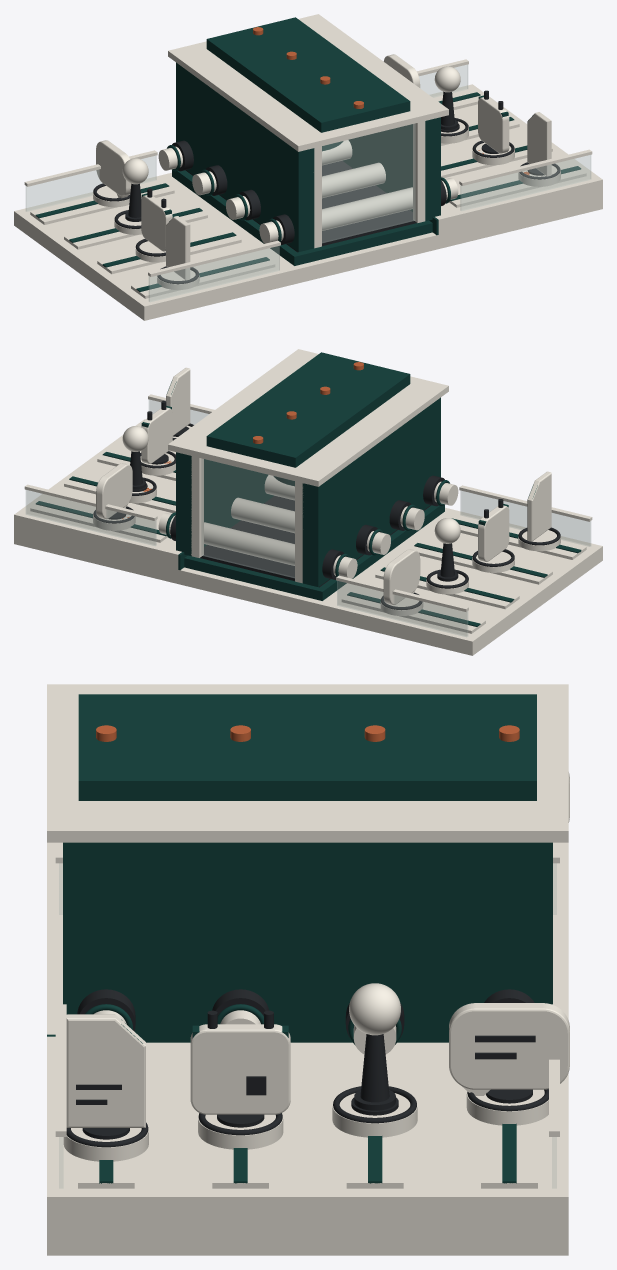
Rendered from automation-engine.glb.
The picture shows the model from 3 angles, top to bottom: view 1: azimuth 30°, elevation 25°; view 2: azimuth 150°, elevation 25°; view 3: azimuth 270°, elevation 25°; orthographic projection. The views are drawn at different scales.
Visible parts, largest first — view 1: base_deck, machine, machine_crown, machine_cap, viewing_panel_2, output_plateau, guide_panel_in_2, guide_panel_out_2, machine_base, process_tube_4, machine_floor, guide_panel_in_1 (+30 smaller); view 2: base_deck, machine, machine_crown, machine_cap, viewing_panel_1, output_plateau, guide_panel_out_1, guide_panel_in_1, machine_base, process_tube_1, machine_floor, guide_panel_in_2 (+31 smaller); view 3: machine, output_plateau, machine_crown, machine_cap, base_deck, message_plate_out, appt_tile_out, doc_sheet_out, rail_out_2, rail_out_1, lead_head_out, rail_out_3 (+12 smaller).
Part boxes in pixels (left/top/right/bottom): base_deck: left=14, top=172, right=602, bottom=320; machine: left=176, top=62, right=440, bottom=252; machine_crown: left=206, top=17, right=410, bottom=132; machine_cap: left=168, top=14, right=448, bottom=151; viewing_panel_2: left=322, top=124, right=415, bottom=242; output_plateau: left=430, top=84, right=602, bottom=234; guide_panel_in_2: left=149, top=246, right=279, bottom=301; guide_panel_out_2: left=460, top=155, right=590, bottom=210; machine_base: left=172, top=170, right=432, bottom=265; process_tube_4: left=259, top=178, right=458, bottom=243; machine_floor: left=185, top=161, right=416, bottom=252; guide_panel_in_1: left=26, top=156, right=156, bottom=211; base_deck: left=14, top=507, right=602, bottom=655; machine: left=176, top=397, right=440, bottom=587; machine_crown: left=206, top=352, right=410, bottom=467; machine_cap: left=168, top=349, right=448, bottom=486; viewing_panel_1: left=201, top=459, right=294, bottom=577; output_plateau: left=14, top=419, right=181, bottom=569; guide_panel_out_1: left=26, top=490, right=156, bottom=545; guide_panel_in_1: left=337, top=581, right=467, bottom=636; machine_base: left=184, top=505, right=444, bottom=600; process_tube_1: left=158, top=513, right=357, bottom=578; machine_floor: left=200, top=496, right=431, bottom=587; guide_panel_in_2: left=460, top=491, right=590, bottom=546; machine: left=63, top=842, right=552, bottom=1042; output_plateau: left=47, top=1036, right=568, bottom=1226; machine_crown: left=78, top=694, right=536, bottom=800; machine_cap: left=47, top=684, right=568, bottom=842; base_deck: left=47, top=842, right=568, bottom=1255; message_plate_out: left=449, top=1003, right=569, bottom=1089; appt_tile_out: left=190, top=1024, right=290, bottom=1114; doc_sheet_out: left=66, top=1014, right=145, bottom=1127; rail_out_2: left=346, top=1056, right=403, bottom=1188; rail_out_1: left=481, top=1121, right=537, bottom=1188; lead_head_out: left=349, top=983, right=400, bottom=1035; rail_out_3: left=212, top=1145, right=268, bottom=1188.
Size of the model in its own units: 1.34 by 0.43 by 0.6616.
